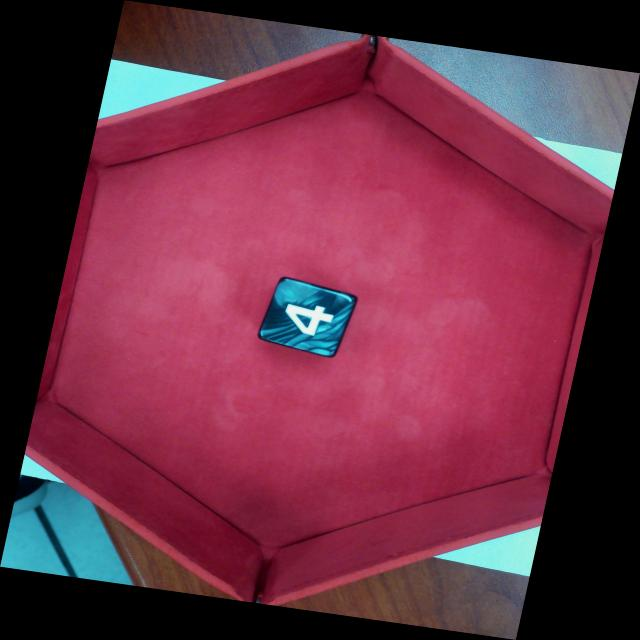dice: (262, 278, 357, 356)
